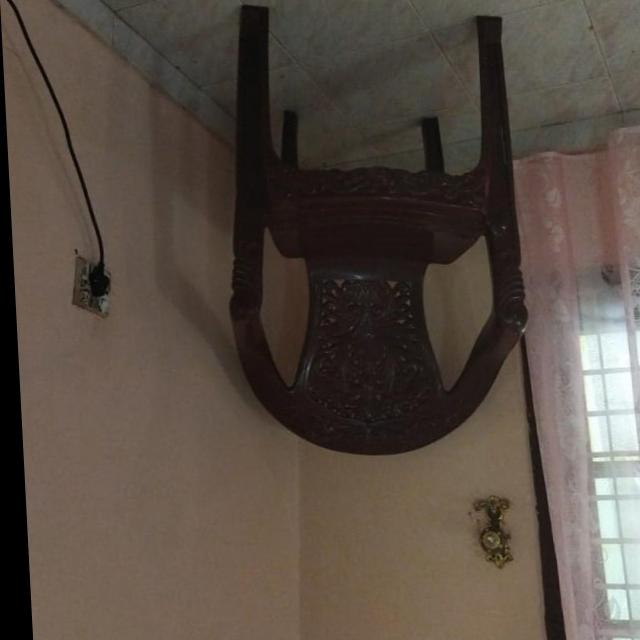Chair: (212, 3, 532, 457)
